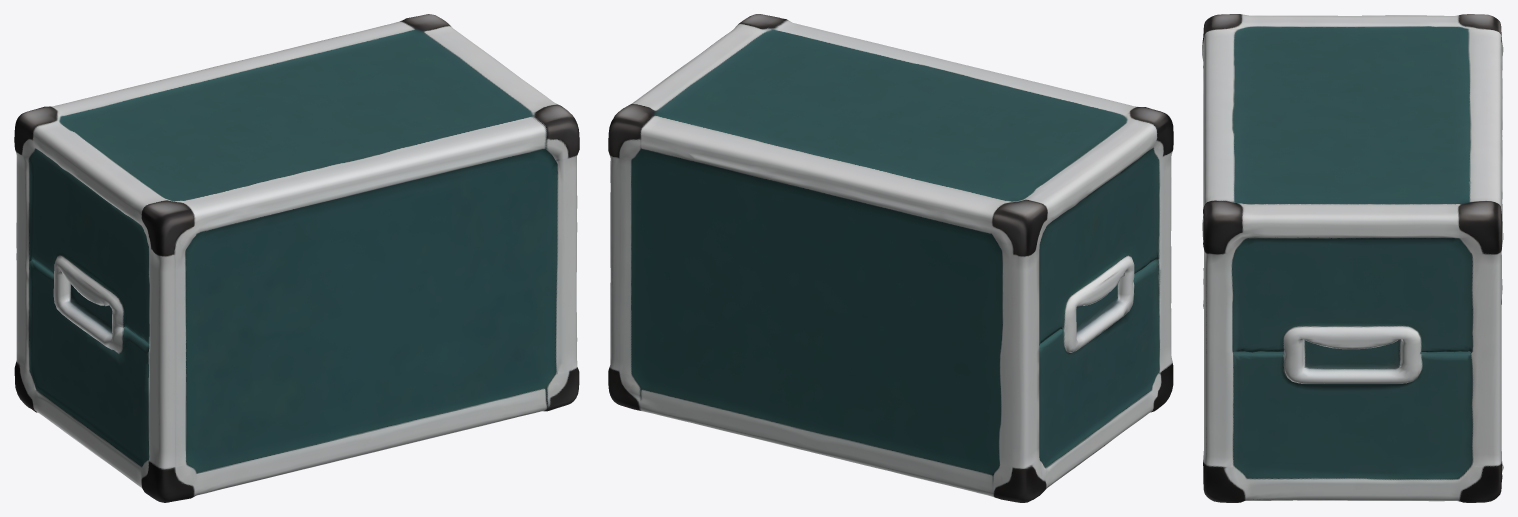
Rendered from 04_big_box.glb.
3 views of the same model, side by side, from view 1: azimuth 30°, elevation 25°; view 2: azimuth 150°, elevation 25°; view 3: azimuth 270°, elevation 25° (orthographic).
Visible parts, largest first — view 1: 04_big_box; view 2: 04_big_box; view 3: 04_big_box.
Part boxes in pixels (left/top/right/bottom): 04_big_box: left=14, top=14, right=579, bottom=502; 04_big_box: left=608, top=14, right=1173, bottom=502; 04_big_box: left=1202, top=14, right=1503, bottom=502.
Size of the model in its own units: 1.2 by 0.7813 by 0.7371.
1 material, 1 textured.
